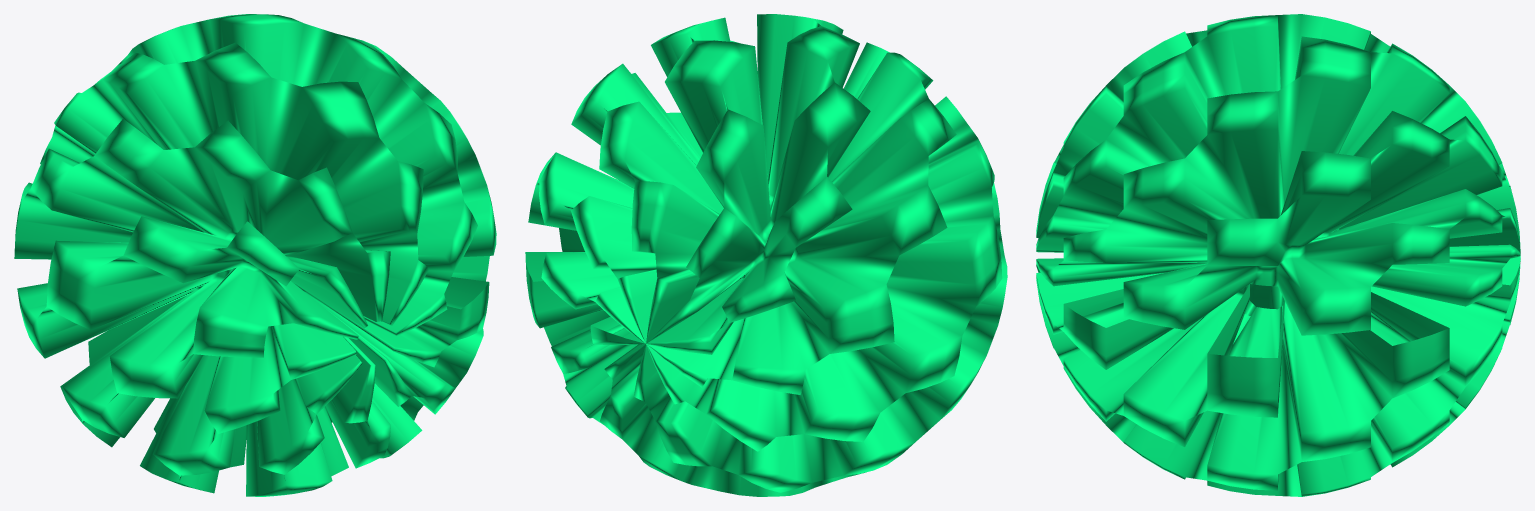
File: null_set_empty_solid_fallback_1770591588423.glb
3 renders of one model, left to right at view 1: azimuth 30°, elevation 25°; view 2: azimuth 150°, elevation 25°; view 3: azimuth 270°, elevation 25°, orthographic.
Parts seen in each view (by area): view 1: MathShape; view 2: MathShape; view 3: MathShape.
Part boxes in pixels (x1=…): MathShape: x1=14, y1=14, x2=496, y2=496; MathShape: x1=525, y1=14, x2=1007, y2=496; MathShape: x1=1036, y1=14, x2=1520, y2=496.
Bounding box in the file's own units: 2 × 1.99 × 2.
